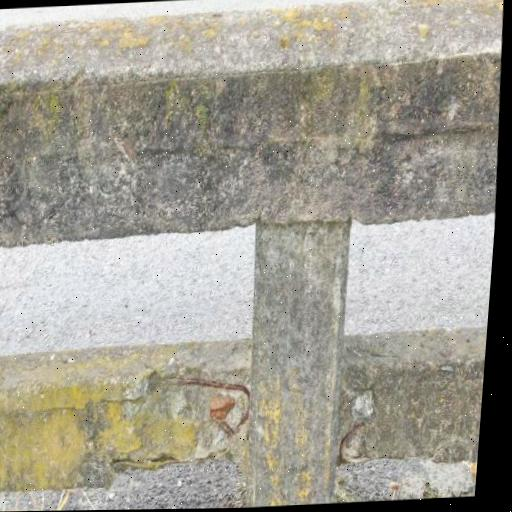exposed_rebar: (176, 378, 250, 425), (112, 444, 233, 470), (339, 421, 367, 463), (212, 416, 233, 437)
